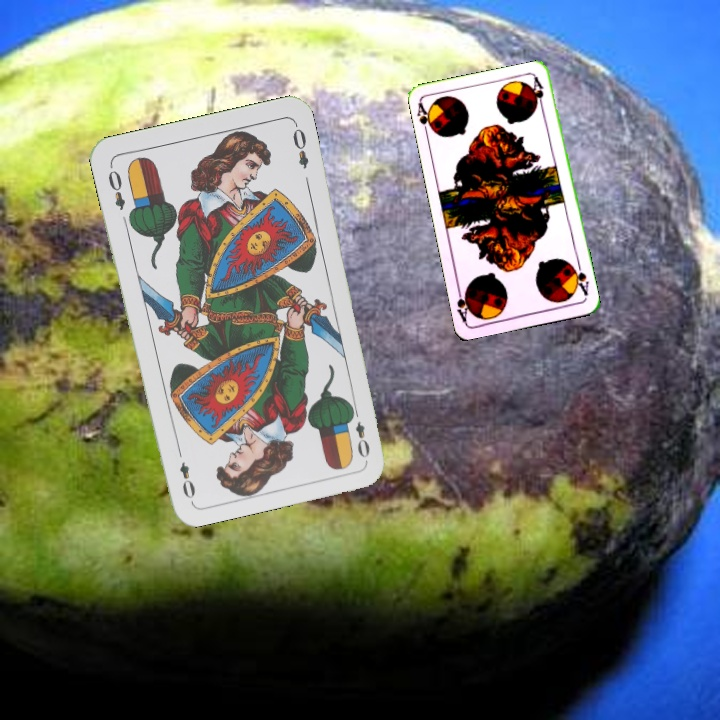EO: (346, 403, 373, 461), (104, 166, 128, 213)
SA: (413, 99, 438, 139), (568, 259, 592, 299)
